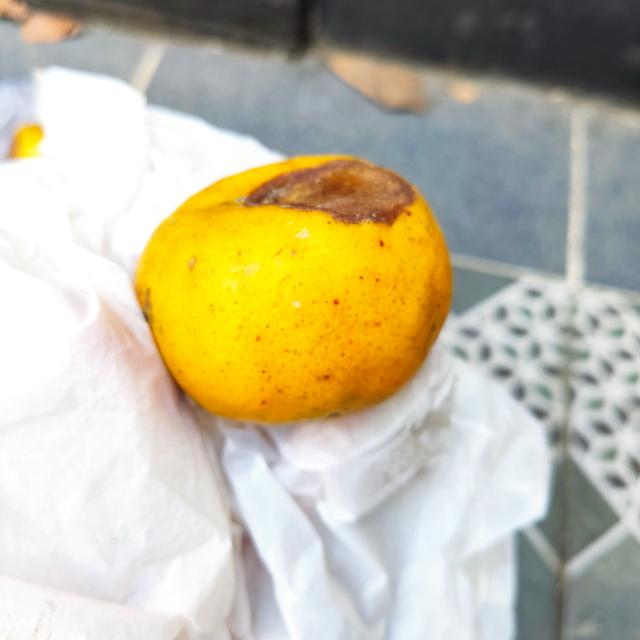orange: (130, 148, 453, 428)
